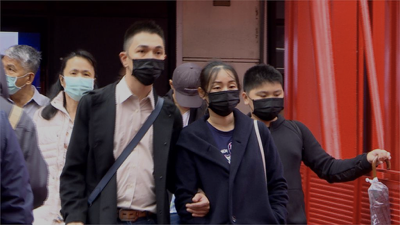with_mask: (128, 43, 165, 87), (207, 79, 240, 118), (250, 88, 284, 122), (64, 68, 96, 102), (1, 61, 21, 96)
